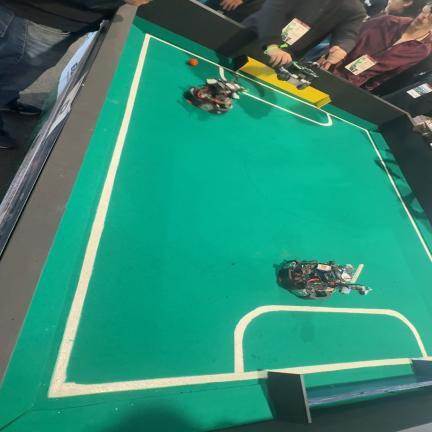cancha: (4, 18, 432, 432)
limites: (48, 34, 432, 398), (247, 94, 432, 262), (240, 73, 316, 107), (270, 358, 411, 374)
pelota: (188, 59, 198, 66)
robot: (277, 260, 372, 300), (184, 78, 247, 114), (275, 61, 318, 90), (413, 123, 432, 150)
